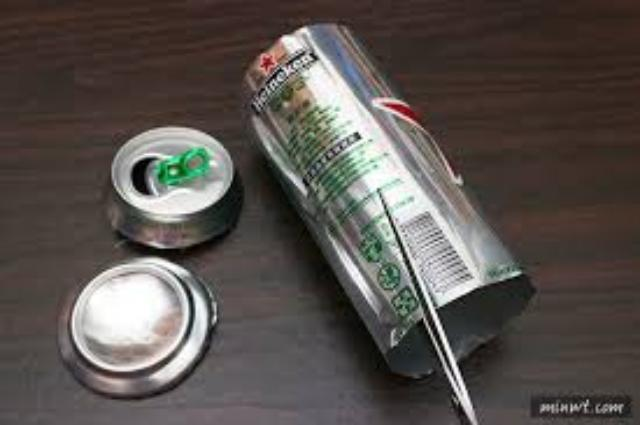metal: (244, 26, 533, 424)
